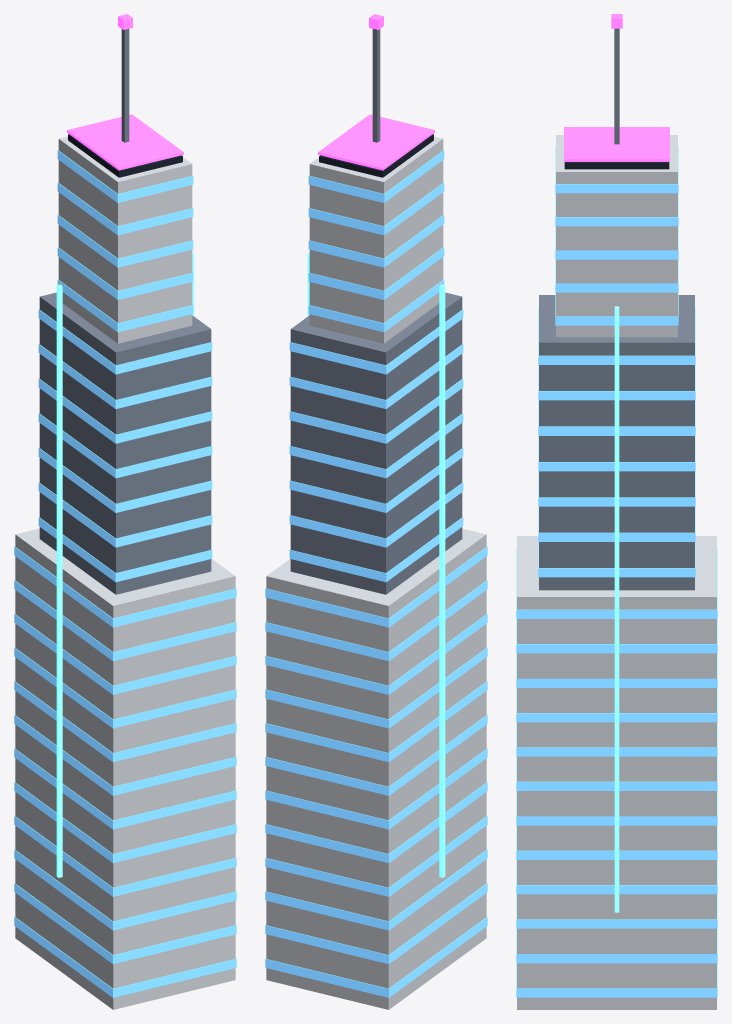
The model's file is sky_tower_b.glb.
3 views of the same model, side by side, from view 1: azimuth 30°, elevation 25°; view 2: azimuth 150°, elevation 25°; view 3: azimuth 270°, elevation 25° (orthographic). The views are drawn at different scales.
Visible parts, largest first — view 1: LOD0; view 2: LOD0; view 3: LOD0.
Part boxes in pixels (box(x1,y1,x2,y2)): LOD0: box(14, 14, 236, 1009); LOD0: box(265, 14, 487, 1009); LOD0: box(516, 14, 717, 1009).
Size of what is drawn, in the model's own units: 14.4 by 95.62 by 18.12.
